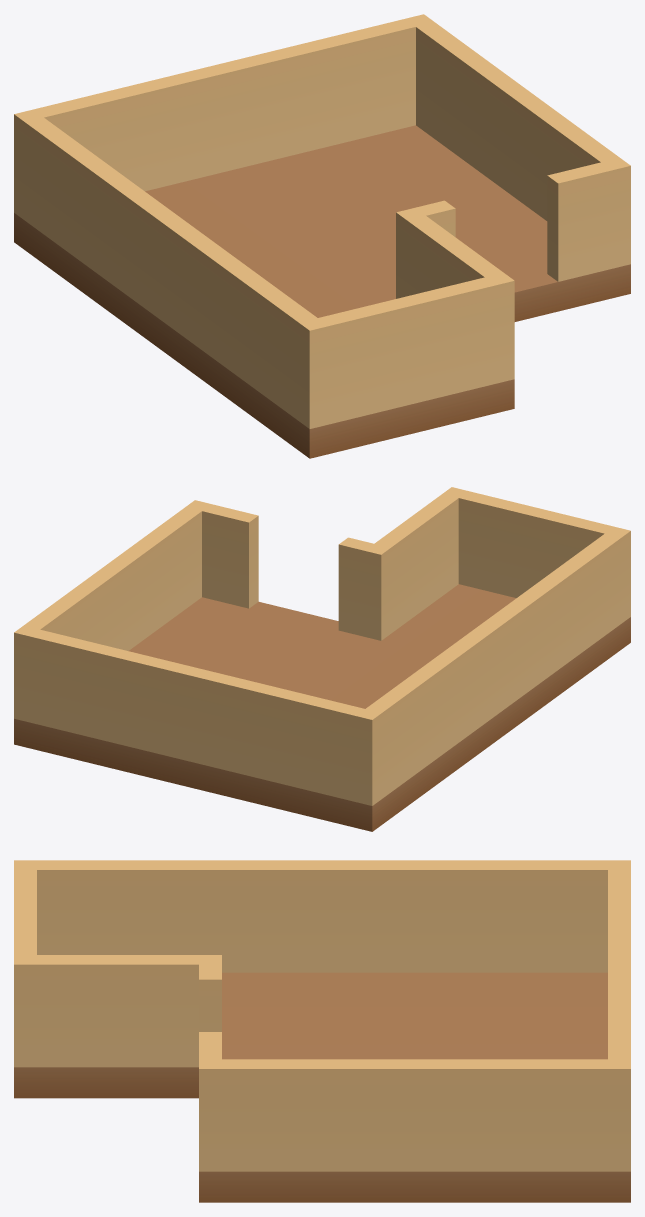
File: Fundaments_2_2.obj
The picture shows the model from 3 angles, top to bottom: view 1: azimuth 30°, elevation 25°; view 2: azimuth 150°, elevation 25°; view 3: azimuth 270°, elevation 25°; orthographic projection. The views are drawn at different scales.
Visible parts, largest first — view 1: Fundaments_2_2; view 2: Fundaments_2_2; view 3: Fundaments_2_2.
Boxes of the visible parts, x1,y1,x2,y2 form: Fundaments_2_2: (14, 14, 630, 458); Fundaments_2_2: (14, 487, 630, 831); Fundaments_2_2: (14, 860, 630, 1202).
Bounding box in the file's own units: 8 × 2.39 × 10.
